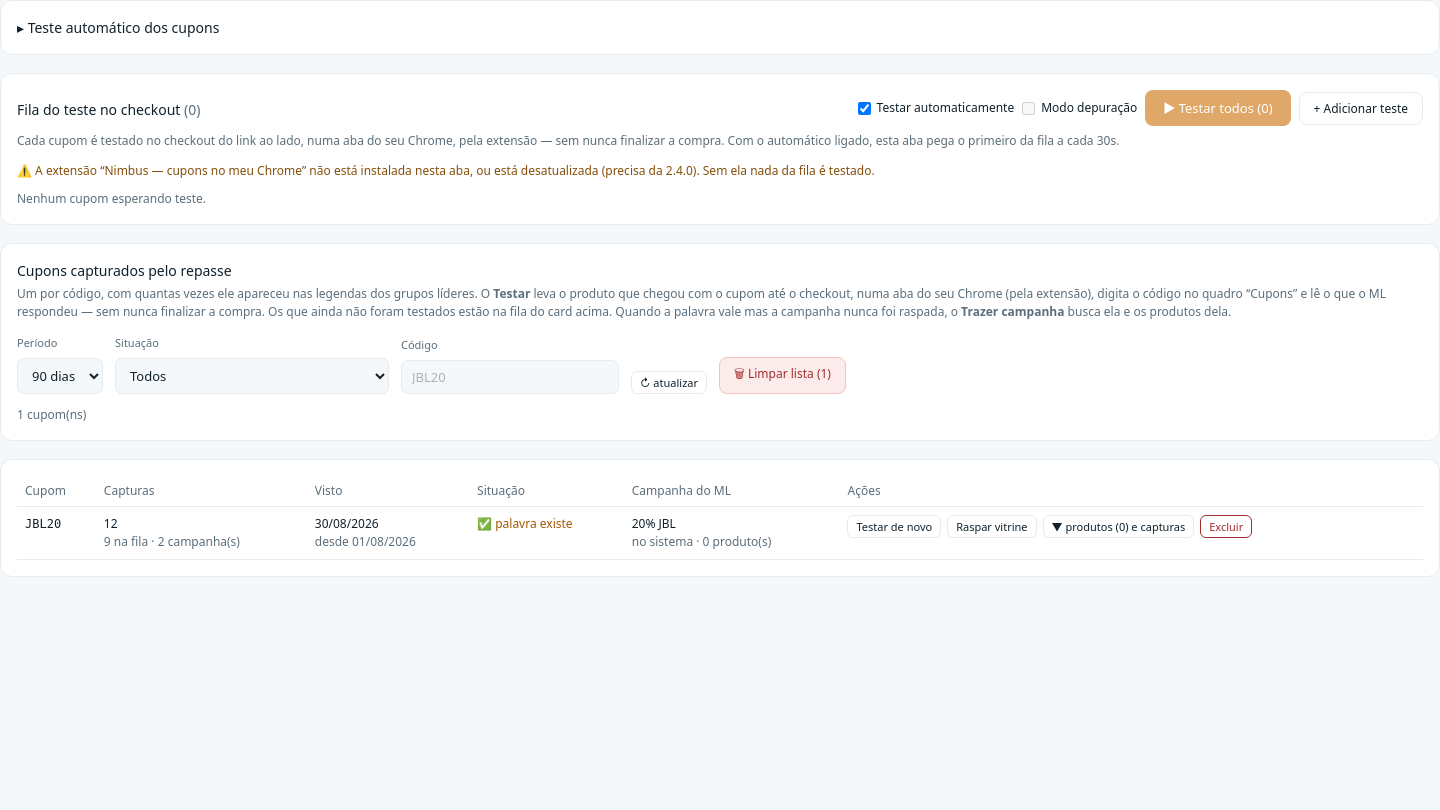
Test case: Admin › Cupom › Repasse › campanha no sistema mas sem vitrine oferece raspar — e mostra o que veio
Click the button "Raspar vitrine" at point(992, 526), box [947, 514, 1036, 538]
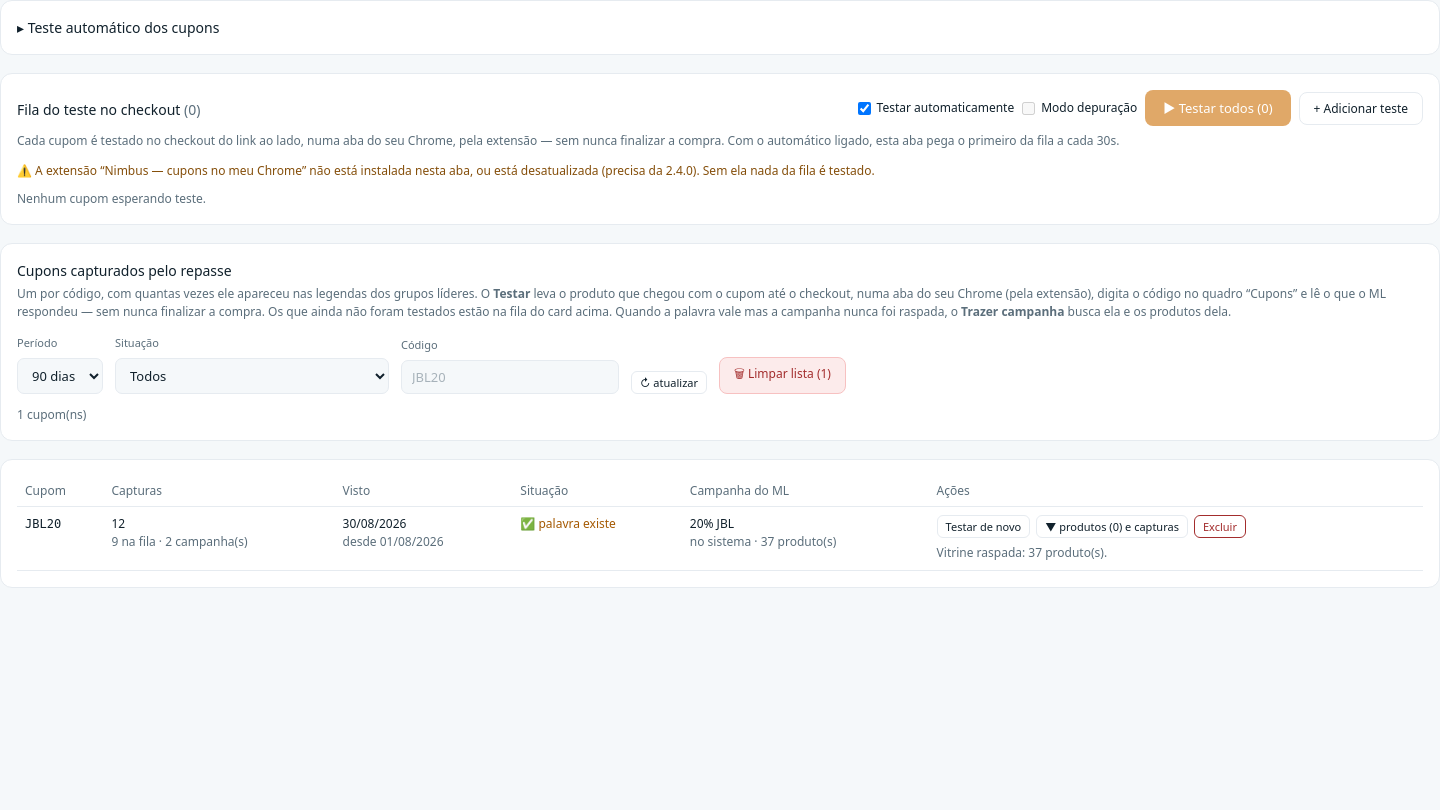
Expected: the text "Vitrine raspada: 37 produto(s)." is shown, [937, 544, 1107, 560]
Expected: the text "no sistema · 37 produto(s)" is shown, [690, 532, 836, 550]
